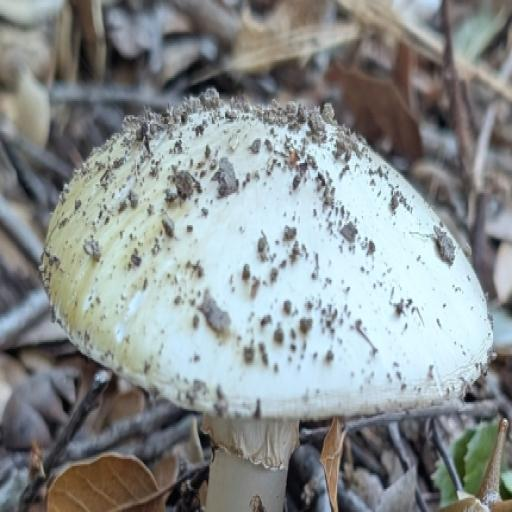Death Cap: (0, 7, 512, 512)
